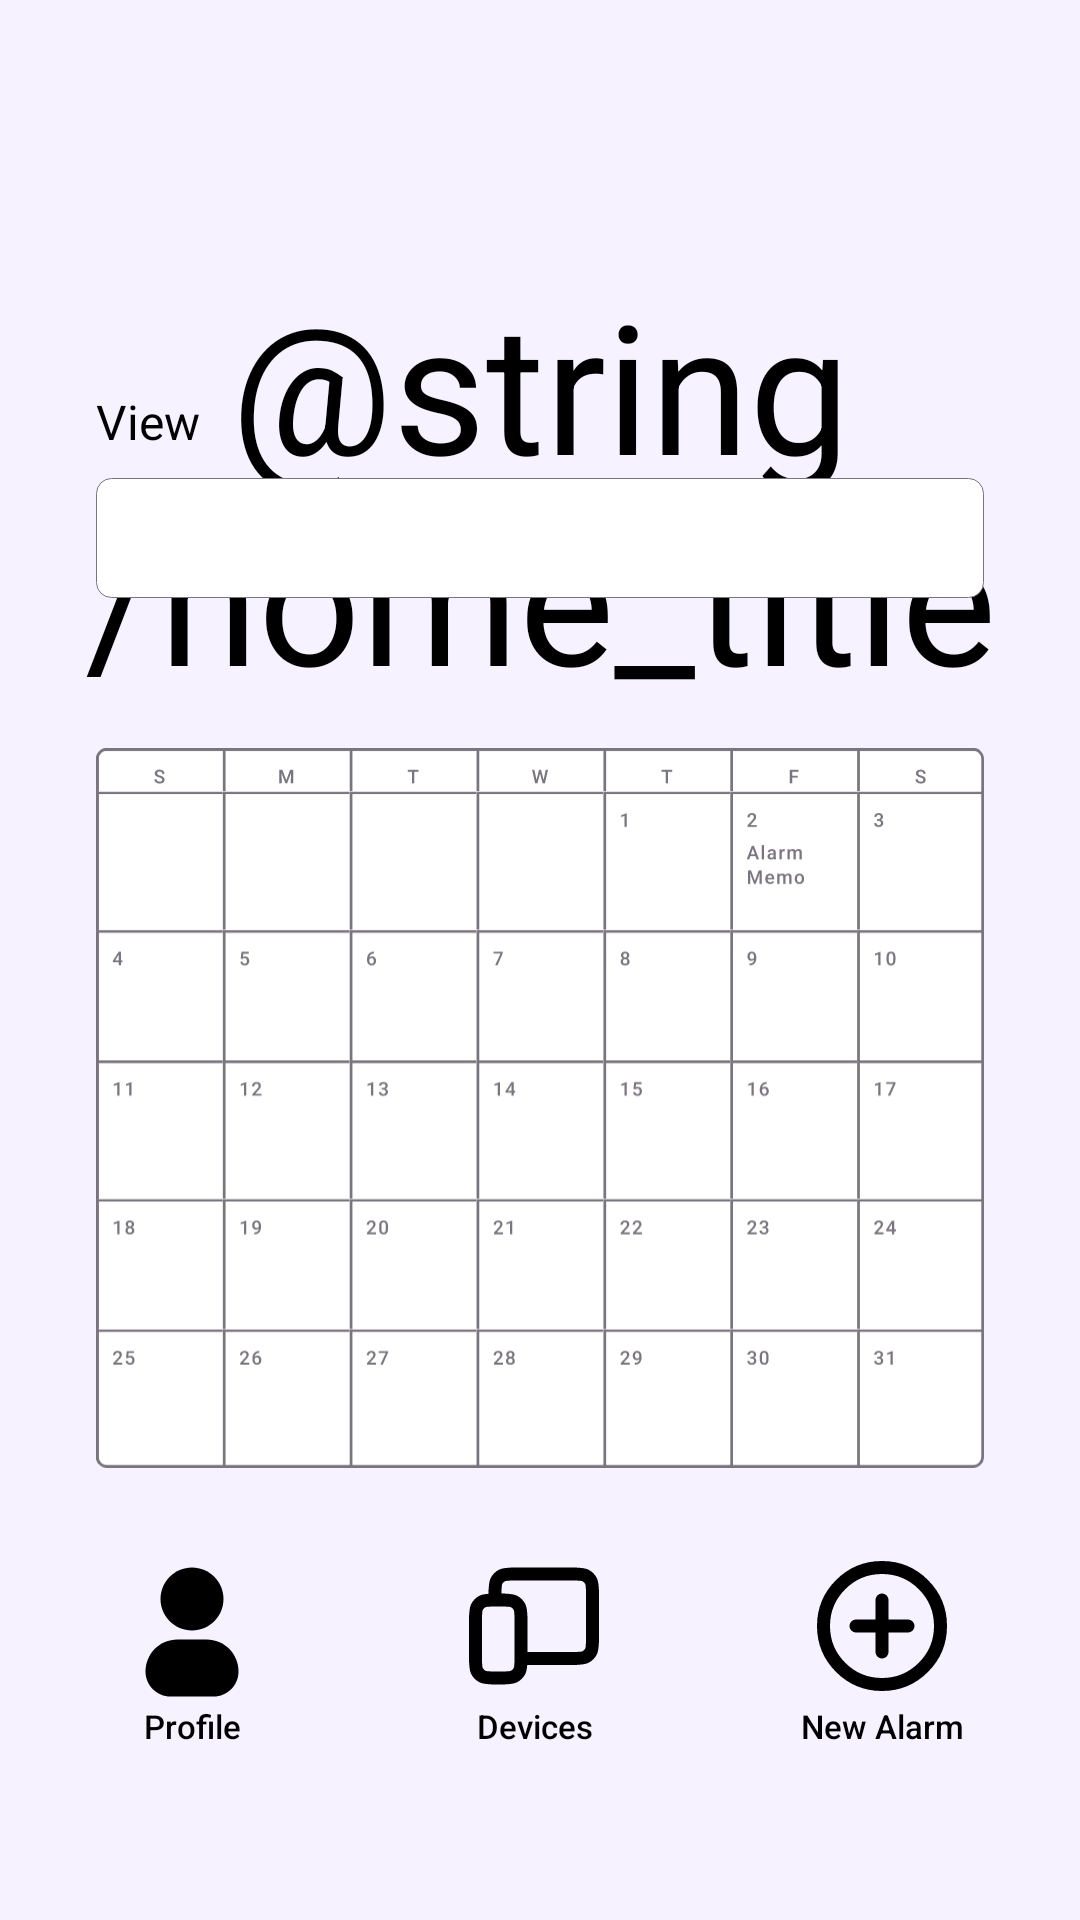

Icons on this 1080*1920 Android screen, each with the point to tap as (x,y):
add: (882,1626)
